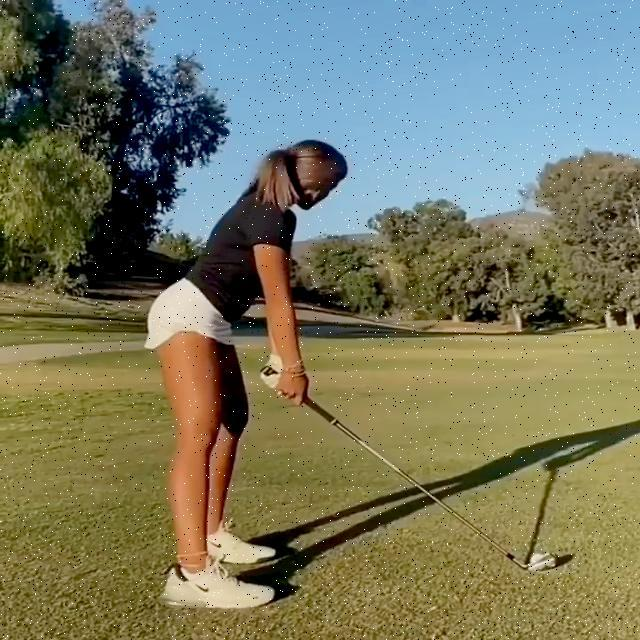golf ball: (530, 554, 543, 564)
golf club-handle: (260, 365, 559, 571)
golf club-head: (525, 553, 559, 571)
